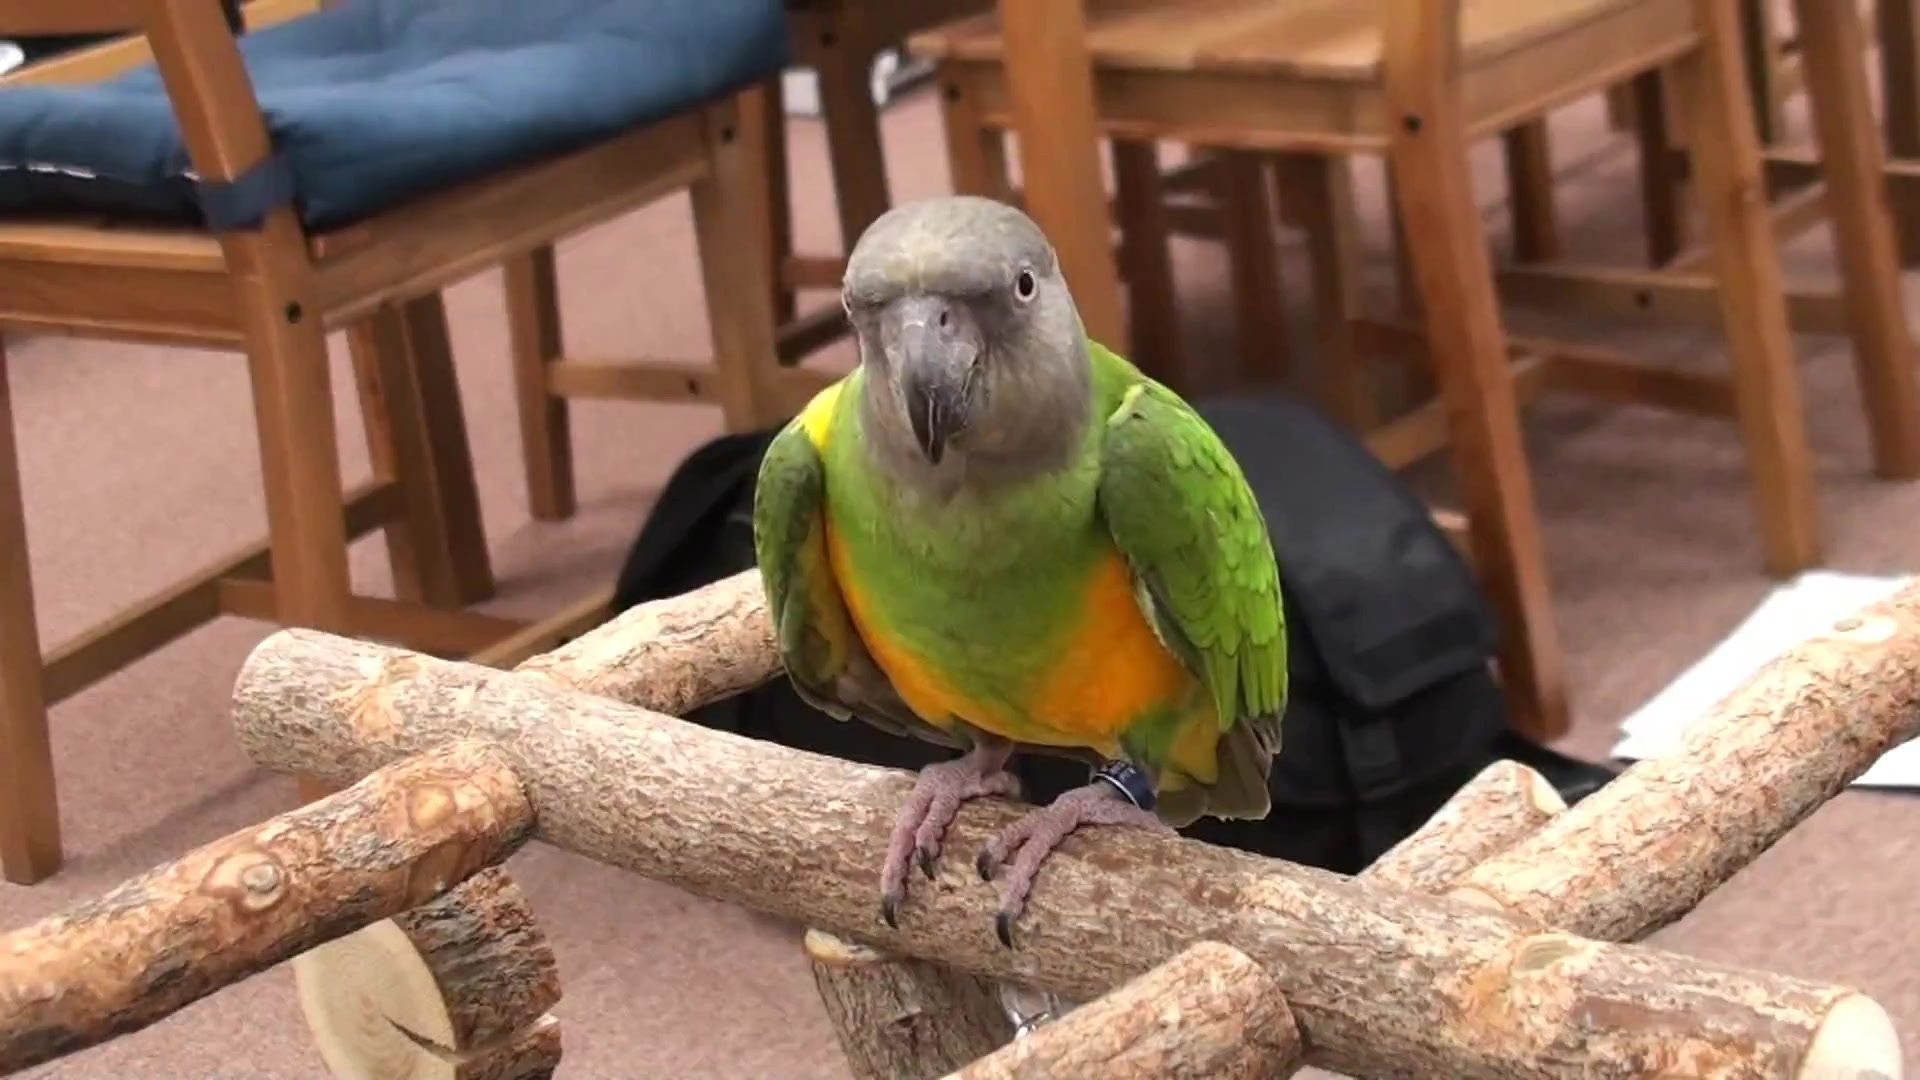bird: (756, 195, 1288, 953)
